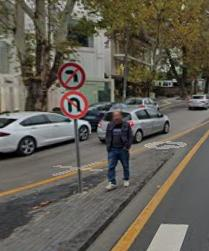leftturnsareforbidden: (59, 62, 86, 88)
